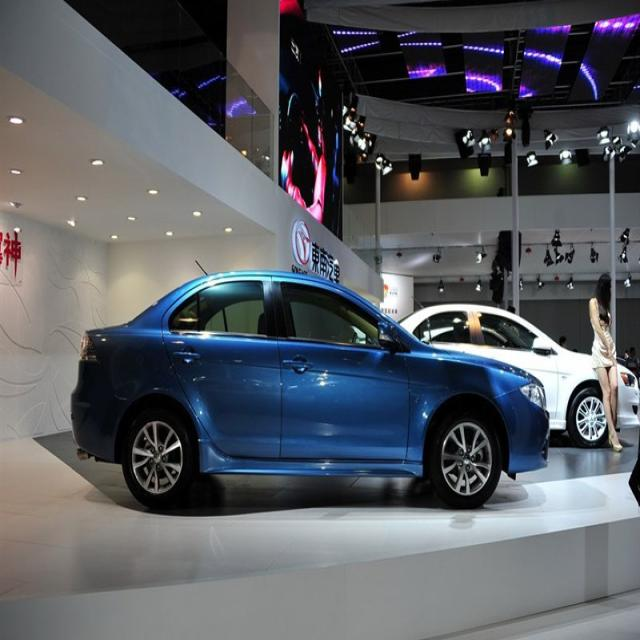back_right_side_light: (79, 329, 104, 372)
door: (160, 281, 286, 470)
front_bumper: (498, 386, 550, 479)
front_right_side_door: (270, 271, 412, 468)
front_right_side_light: (516, 378, 550, 419)
front_right_side_mirror: (374, 318, 404, 354)
rear_bumper: (70, 372, 124, 469)
wheel: (426, 403, 503, 506), (122, 403, 192, 502)
